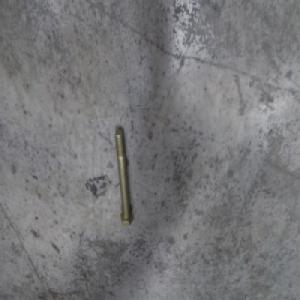Bolt: (115, 126, 134, 227)
